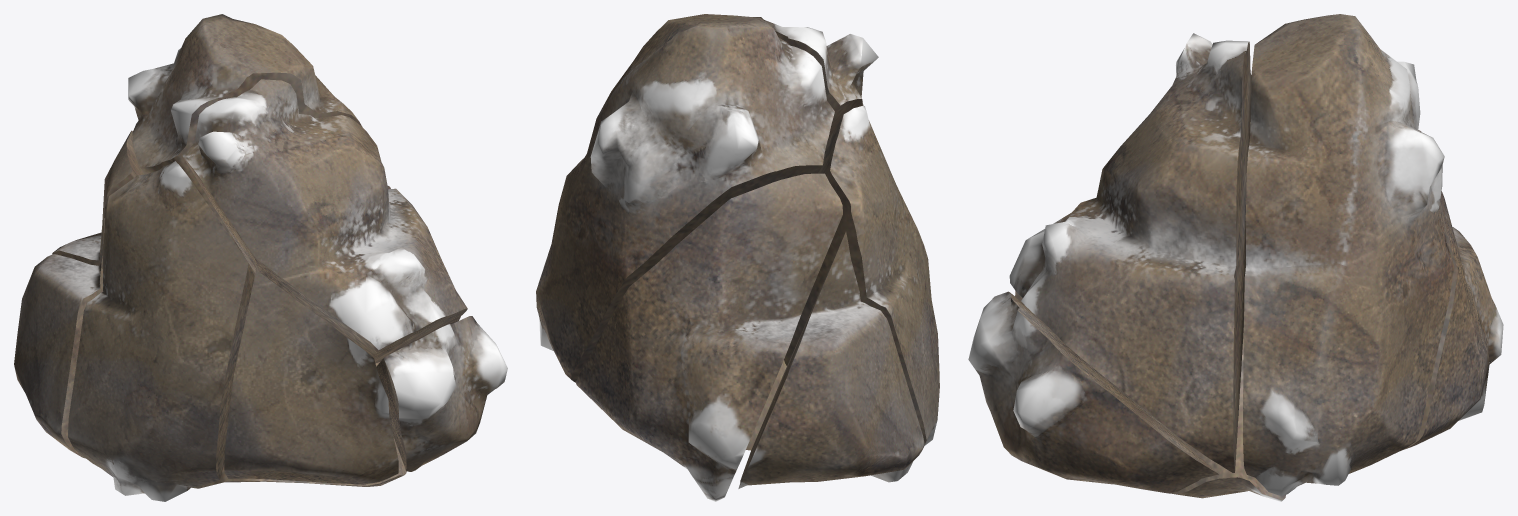
Rendered from SM_MetalNode_3b_Pieces.fbx.
3 renders of one model, left to right at view 1: azimuth 30°, elevation 25°; view 2: azimuth 150°, elevation 25°; view 3: azimuth 270°, elevation 25°, orthographic. The views are drawn at different scales.
Visible parts, largest first — view 1: SM_MetalNode_3b_Pieces_cell_2, SM_MetalNode_3b_Pieces_cell_6, SM_MetalNode_3b_Pieces_cell_4, SM_MetalNode_3b_Pieces_cell_7, SM_MetalNode_3b_Pieces_cell_8, SM_MetalNode_3b_Pieces_cell_1, SM_MetalNode_3b_Pieces_cell_3, SM_MetalNode_3b_Pieces_cell_5; view 2: SM_MetalNode_3b_Pieces_cell_7, SM_MetalNode_3b_Pieces_cell_3, SM_MetalNode_3b_Pieces_cell_1, SM_MetalNode_3b_Pieces_cell_2, SM_MetalNode_3b_Pieces_cell_6, SM_MetalNode_3b_Pieces_cell_5; view 3: SM_MetalNode_3b_Pieces_cell_7, SM_MetalNode_3b_Pieces_cell_6, SM_MetalNode_3b_Pieces_cell_8, SM_MetalNode_3b_Pieces_cell_3, SM_MetalNode_3b_Pieces_cell_5.
Boxes of the visible parts, x1=… form: SM_MetalNode_3b_Pieces_cell_2: x1=68, y1=161, x2=254, y2=501; SM_MetalNode_3b_Pieces_cell_6: x1=182, y1=79, x2=467, y2=363; SM_MetalNode_3b_Pieces_cell_4: x1=224, y1=270, x2=398, y2=484; SM_MetalNode_3b_Pieces_cell_7: x1=128, y1=14, x2=390, y2=275; SM_MetalNode_3b_Pieces_cell_8: x1=376, y1=316, x2=507, y2=471; SM_MetalNode_3b_Pieces_cell_1: x1=14, y1=218, x2=104, y2=458; SM_MetalNode_3b_Pieces_cell_3: x1=52, y1=130, x2=144, y2=265; SM_MetalNode_3b_Pieces_cell_5: x1=192, y1=362, x2=406, y2=488; SM_MetalNode_3b_Pieces_cell_7: x1=536, y1=14, x2=834, y2=382; SM_MetalNode_3b_Pieces_cell_3: x1=576, y1=173, x2=842, y2=501; SM_MetalNode_3b_Pieces_cell_1: x1=738, y1=232, x2=924, y2=488; SM_MetalNode_3b_Pieces_cell_2: x1=784, y1=106, x2=939, y2=482; SM_MetalNode_3b_Pieces_cell_6: x1=753, y1=17, x2=878, y2=140; SM_MetalNode_3b_Pieces_cell_5: x1=746, y1=360, x2=786, y2=450; SM_MetalNode_3b_Pieces_cell_7: x1=1243, y1=14, x2=1454, y2=496; SM_MetalNode_3b_Pieces_cell_6: x1=1009, y1=33, x2=1251, y2=472; SM_MetalNode_3b_Pieces_cell_8: x1=968, y1=291, x2=1218, y2=493; SM_MetalNode_3b_Pieces_cell_3: x1=1404, y1=130, x2=1503, y2=449; SM_MetalNode_3b_Pieces_cell_5: x1=1171, y1=328, x2=1285, y2=501.
Bounding box in the file's own units: 0.9586 × 1.07 × 1.11.
